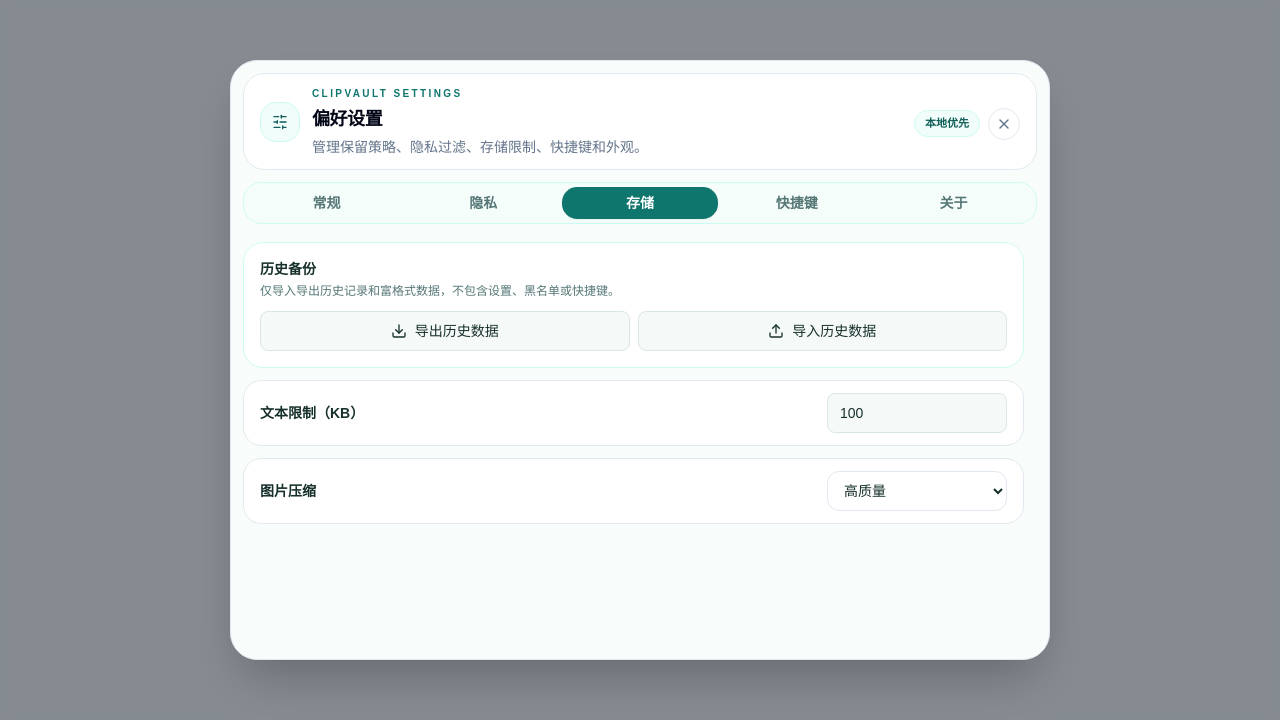
Scenario: SettingsPanel › exports history from storage settings
Click the button "导出历史数据".
click(445, 331)  # box [260,311,630,351]
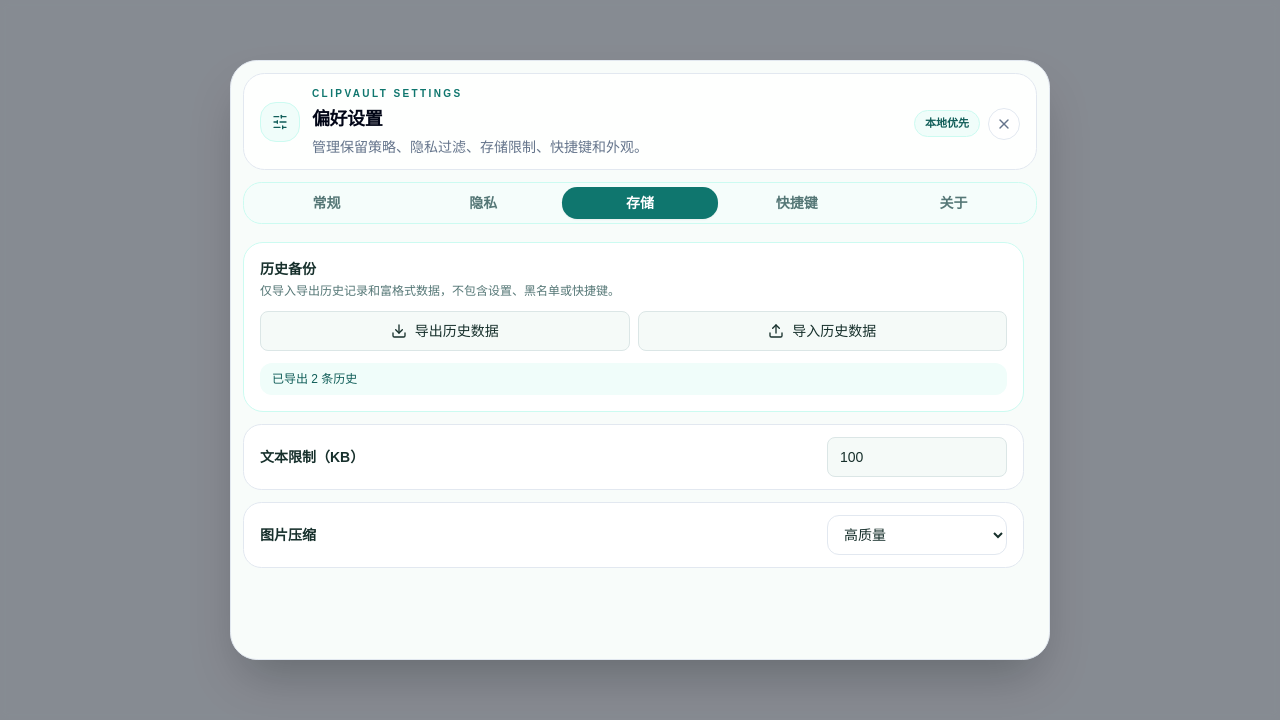
Expected: the text "已导出 2 条历史" is shown, [260,363,1007,395]
